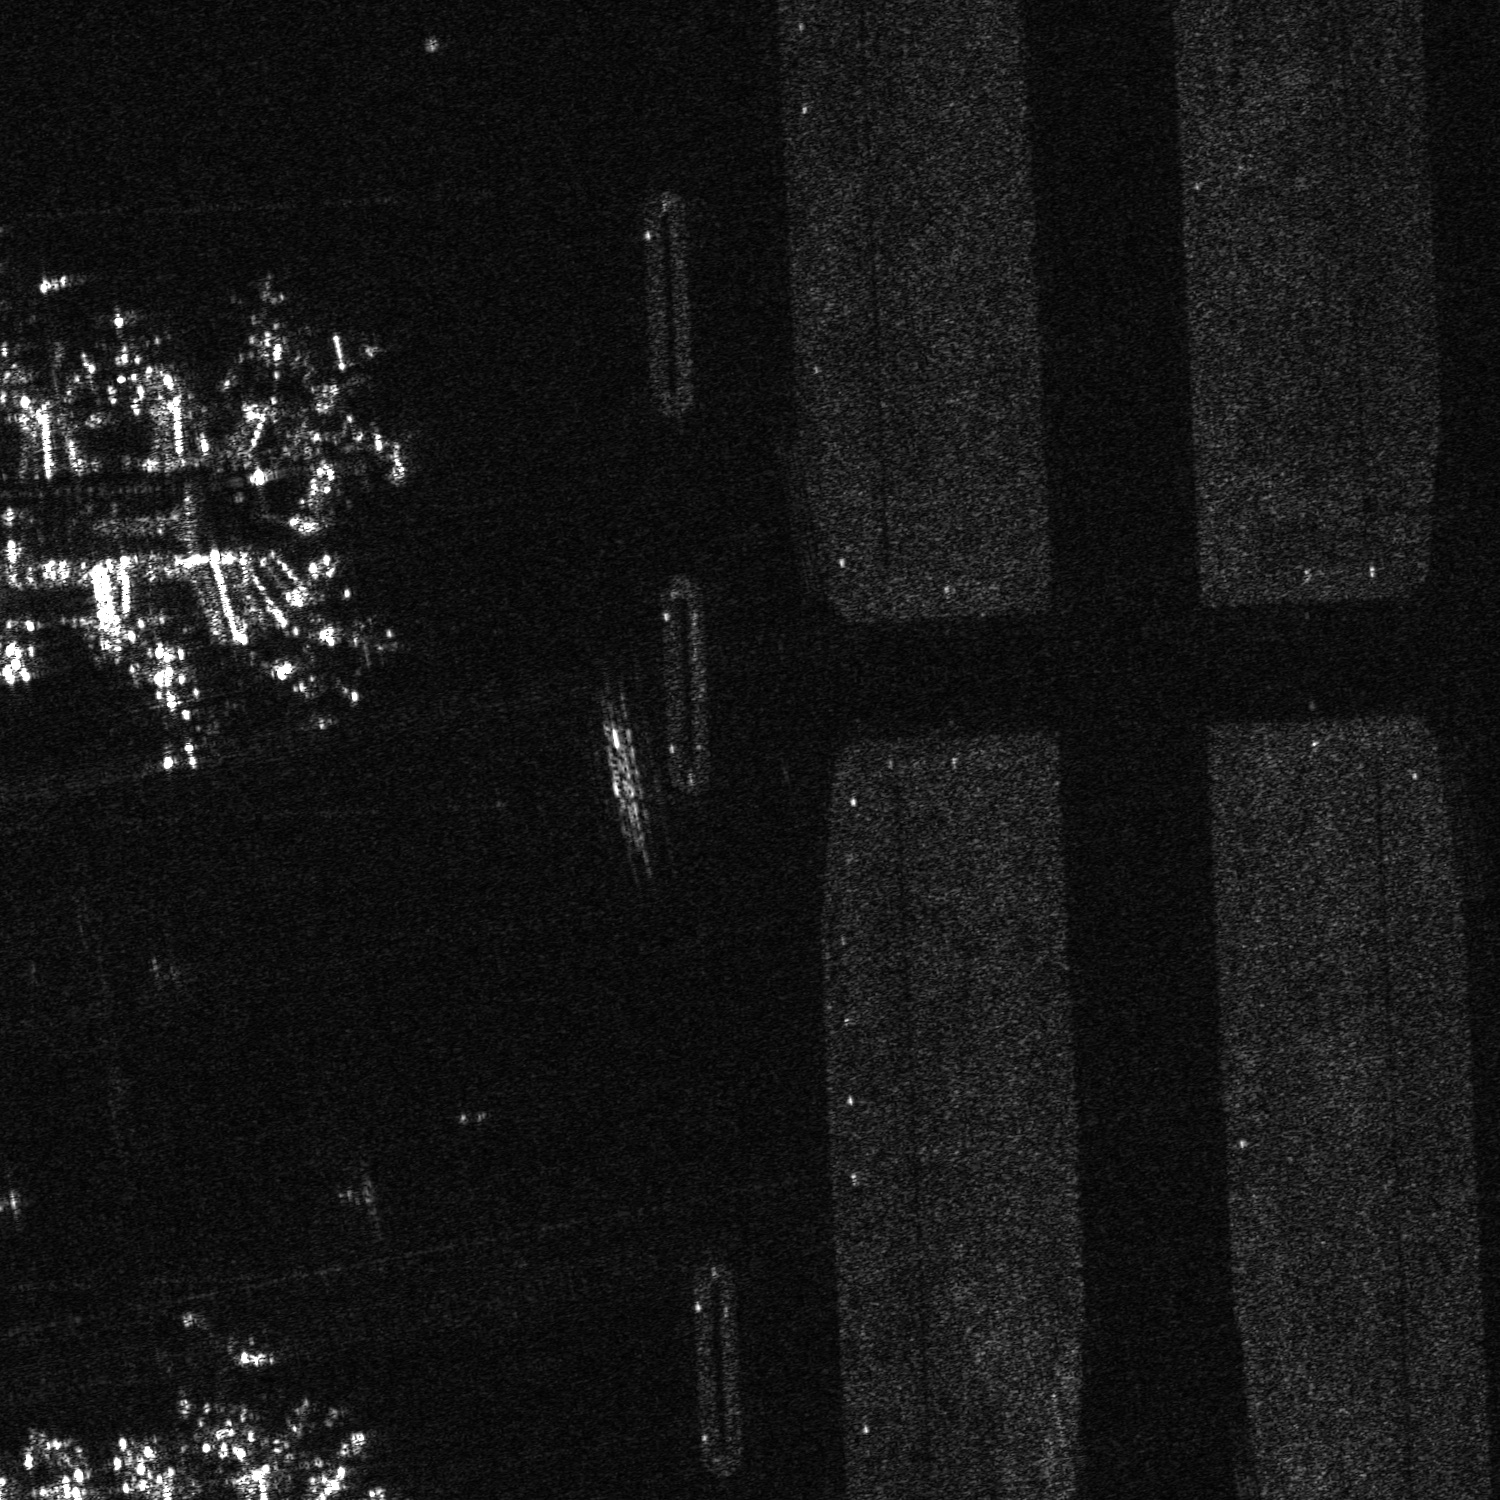A220: (174, 1337, 277, 1445)
A320/321: (129, 666, 223, 776), (231, 269, 299, 376), (309, 611, 402, 672), (95, 304, 158, 390)
Boeing737: (262, 651, 376, 714)
